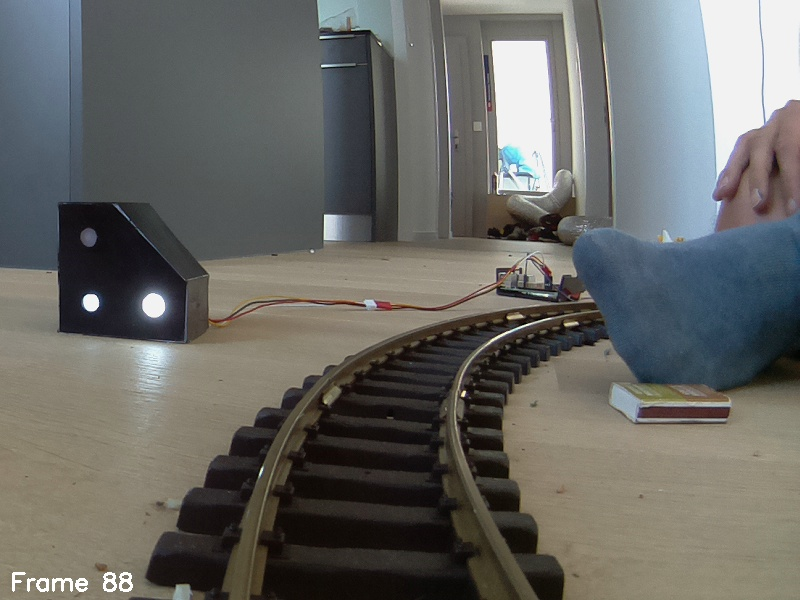Halt: (58, 202, 211, 347)
